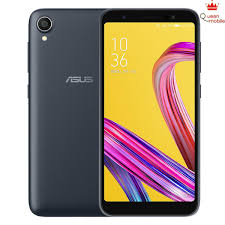asus: (23, 5, 203, 218), (94, 3, 203, 218), (25, 5, 111, 218)
